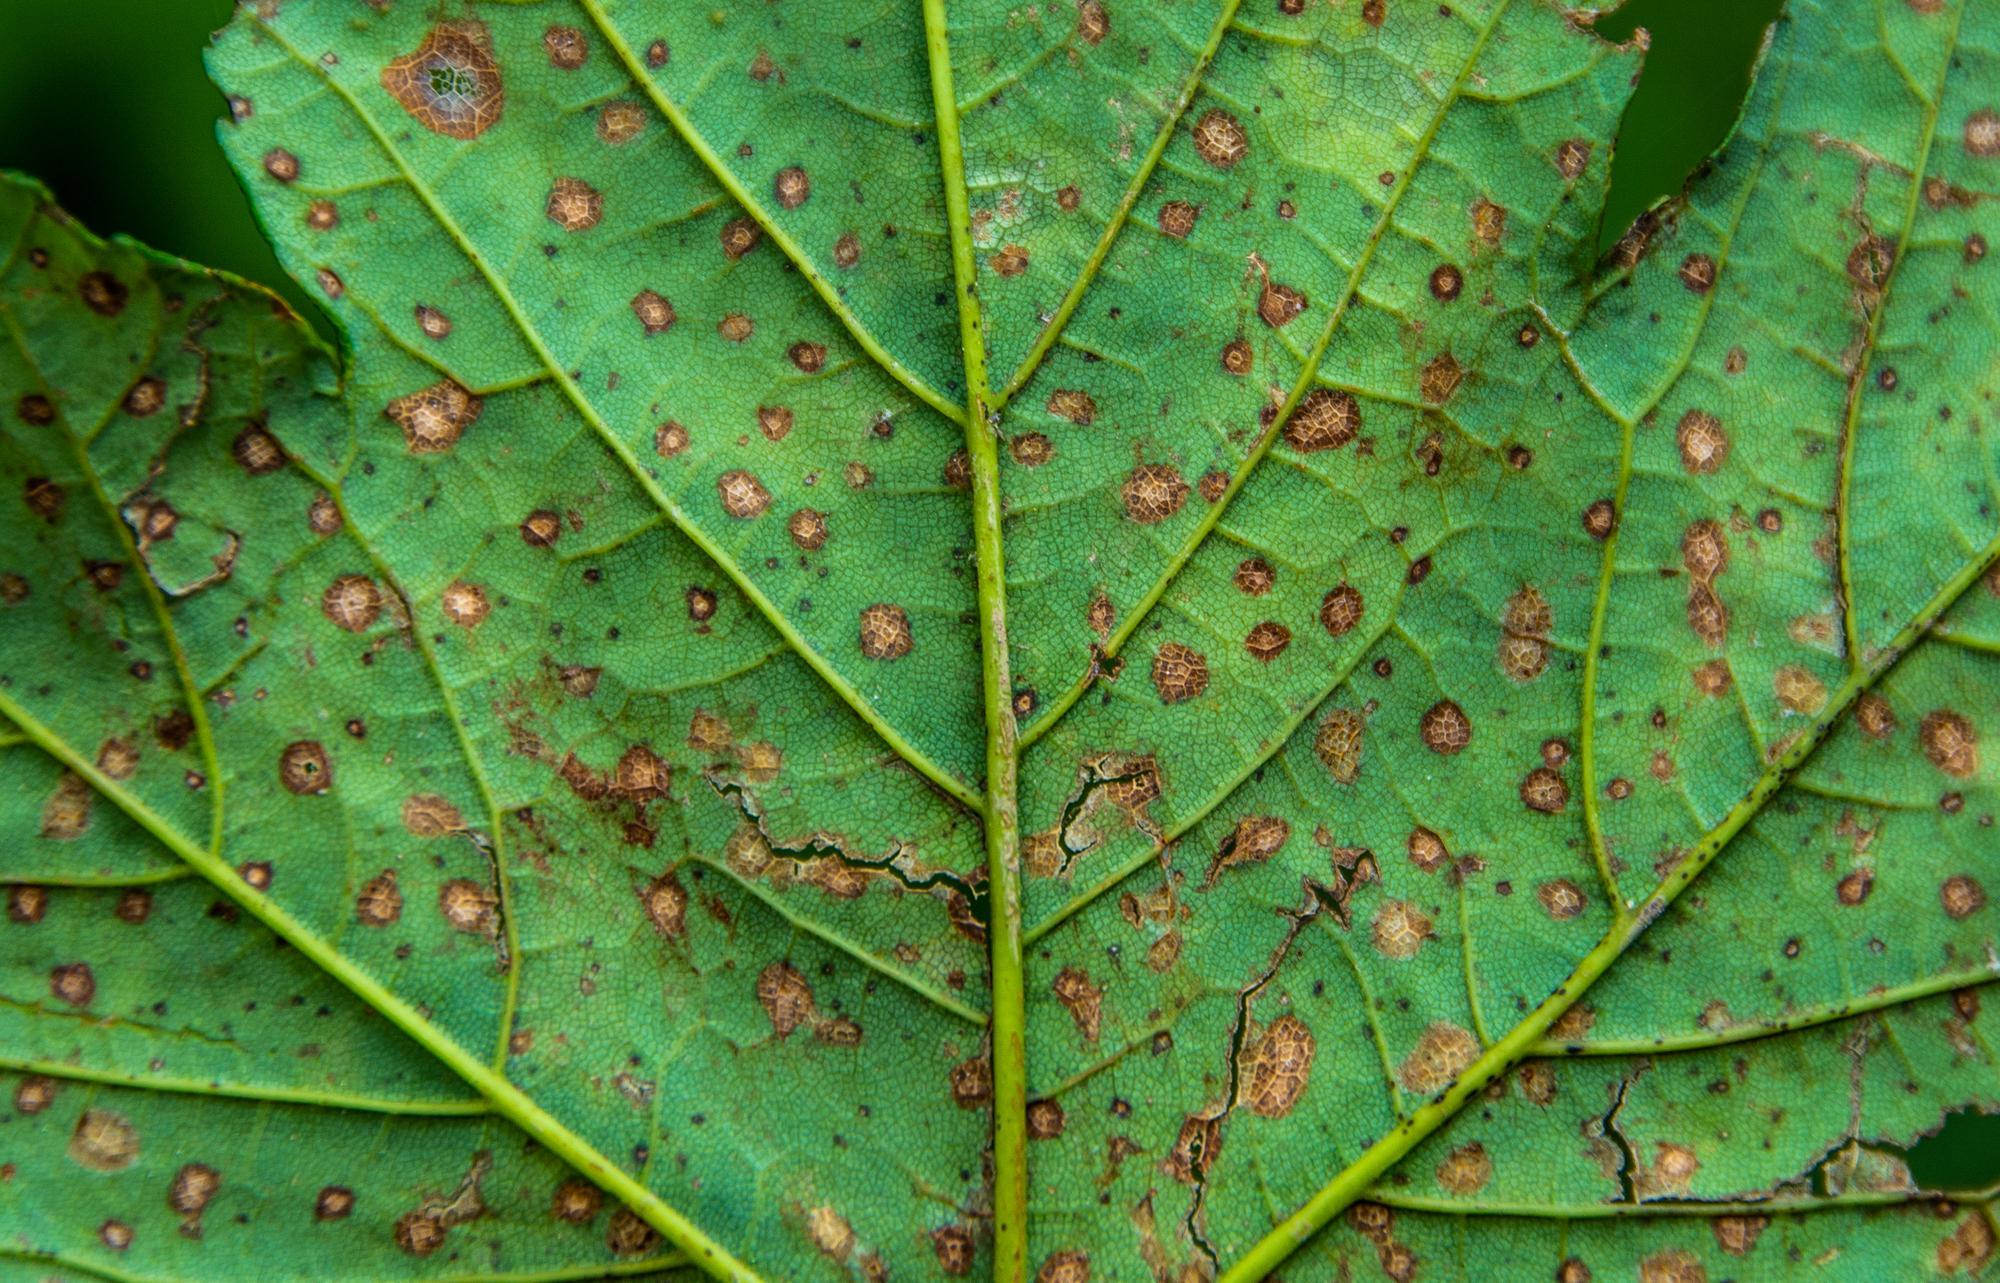black-spot: (996, 267, 1583, 1102), (509, 55, 918, 653)
